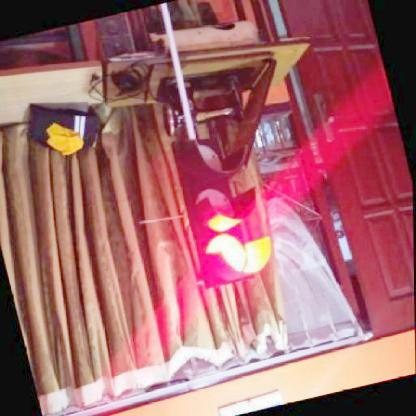Traffic Light -Red-: (170, 125, 278, 286)
